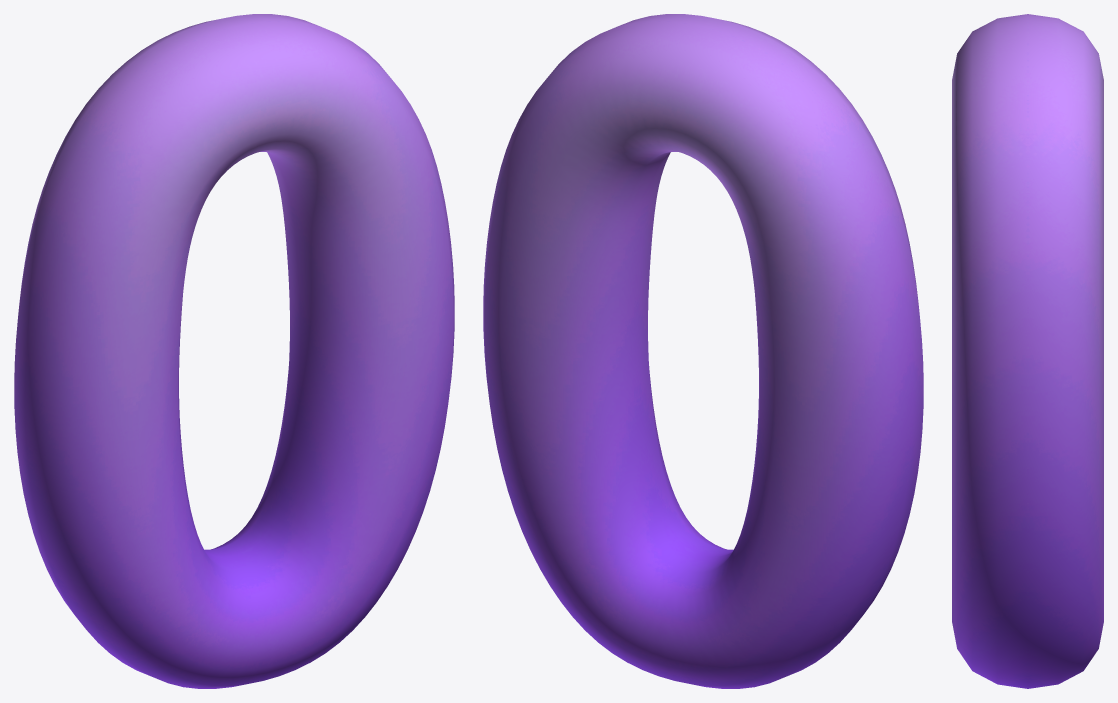
3 renders of one model, left to right at view 1: azimuth 30°, elevation 25°; view 2: azimuth 150°, elevation 25°; view 3: azimuth 270°, elevation 25°, orthographic. The views are drawn at different scales.
Visible parts, largest first — view 1: node_id333; view 2: node_id333; view 3: node_id333.
Boxes of the visible parts, x1,y1,x2,y2 form: node_id333: [14, 14, 454, 688]; node_id333: [483, 14, 923, 688]; node_id333: [952, 14, 1103, 688].
Size of the model in its own units: 0.3458 by 0.512 by 0.111.
Materials: 1 (1 with a texture image).
